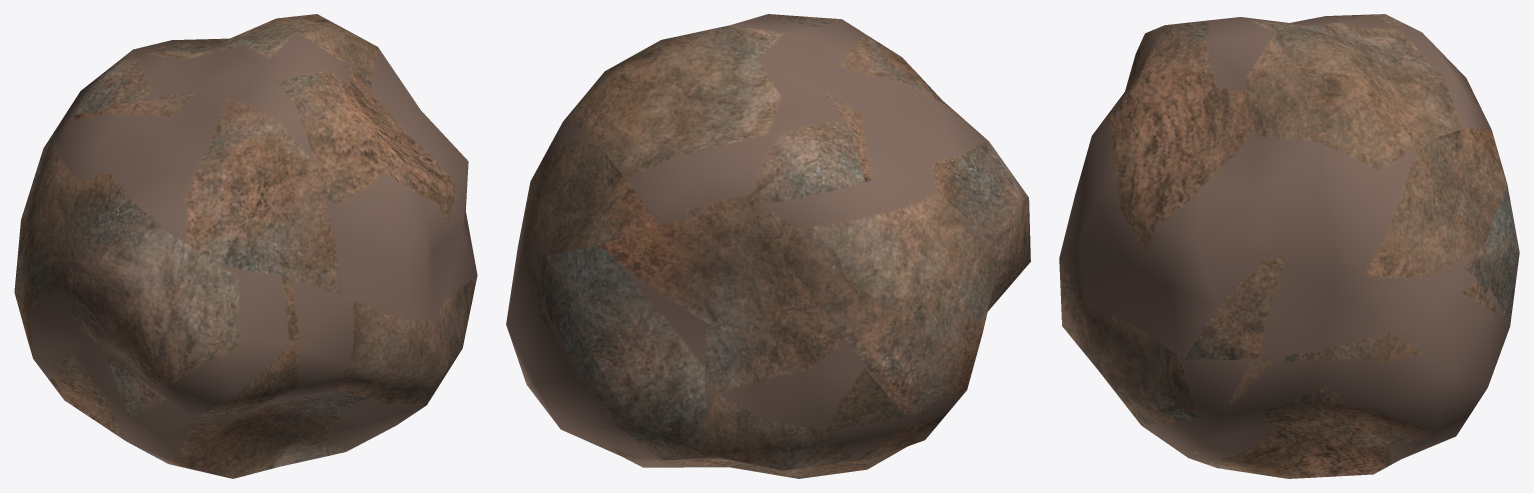
Rendered from rock01.dae.
The picture shows the model from 3 angles, left to right: view 1: azimuth 30°, elevation 25°; view 2: azimuth 150°, elevation 25°; view 3: azimuth 270°, elevation 25°; orthographic projection. The views are drawn at different scales.
Visible parts, largest first — view 1: rock01; view 2: rock01; view 3: rock01.
Boxes of the visible parts, x1=… form: rock01: x1=14, y1=14, x2=477, y2=478; rock01: x1=506, y1=14, x2=1030, y2=478; rock01: x1=1059, y1=14, x2=1519, y2=478.
Bounding box in the file's own units: 1.54 × 1.43 × 1.51.
1 material, 1 textured.
